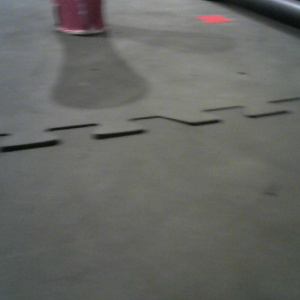Middle: (52, 1, 106, 34)
